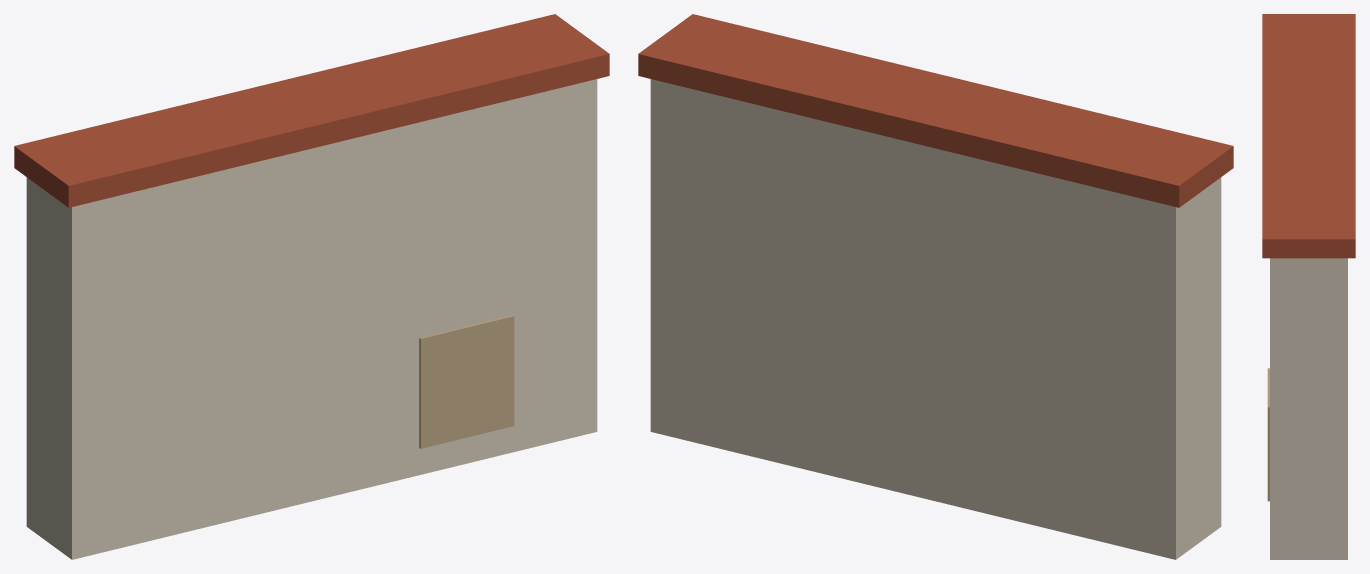
Rendered from bahce-badana-duvar-2m.glb.
The picture shows the model from 3 angles, left to right: view 1: azimuth 30°, elevation 25°; view 2: azimuth 150°, elevation 25°; view 3: azimuth 270°, elevation 25°; orthographic projection. The views are drawn at different scales.
Visible parts, largest first — view 1: badana_kir, kiremit2, tas3; view 2: badana_kir, kiremit2; view 3: badana_kir, kiremit2, tas3.
Part boxes in pixels (left/top/right/bottom): badana_kir: left=26, top=79, right=597, bottom=559; kiremit2: left=14, top=14, right=609, bottom=207; tas3: left=419, top=315, right=514, bottom=448; badana_kir: left=650, top=79, right=1221, bottom=559; kiremit2: left=638, top=14, right=1233, bottom=207; badana_kir: left=1270, top=258, right=1347, bottom=559; kiremit2: left=1262, top=14, right=1355, bottom=258; tas3: left=1267, top=368, right=1269, bottom=501.
Size of the model in its own units: 2.06 by 1.38 by 0.3599.
